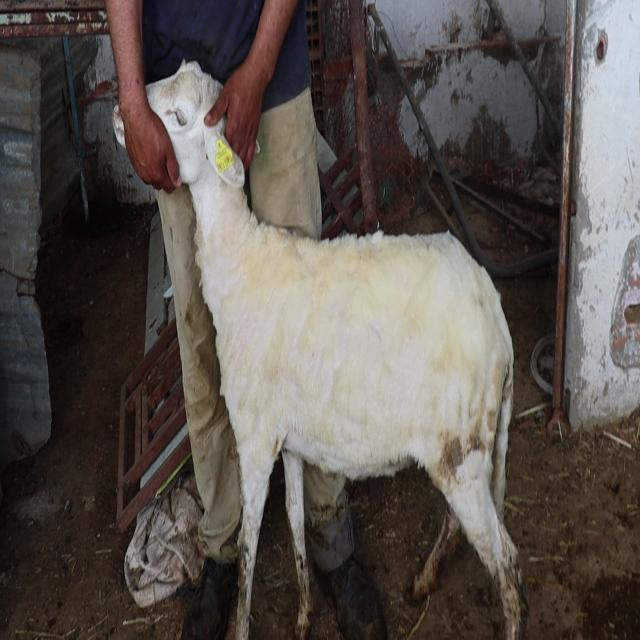Score_4: (146, 62, 527, 639)
